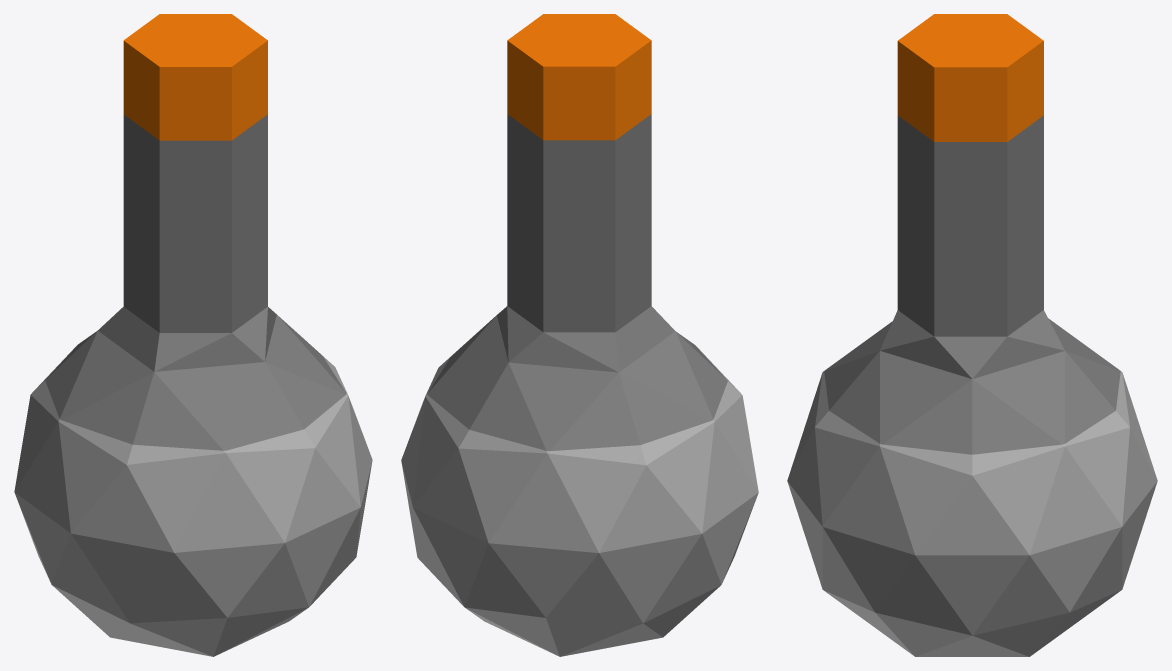
Rendered from potions_340x07.gltf.
3 views of the same model, side by side, from view 1: azimuth 30°, elevation 25°; view 2: azimuth 150°, elevation 25°; view 3: azimuth 270°, elevation 25° (orthographic).
Visible parts, largest first — view 1: potions_340x07; view 2: potions_340x07; view 3: potions_340x07.
Part boxes in pixels (box(x1,y1,x2,y2)): potions_340x07: box(14, 14, 372, 656); potions_340x07: box(401, 14, 758, 656); potions_340x07: box(787, 14, 1157, 656).
Size of the model in its own units: 0.497 by 0.9473 by 0.5225.
2 materials, 2 textured.
